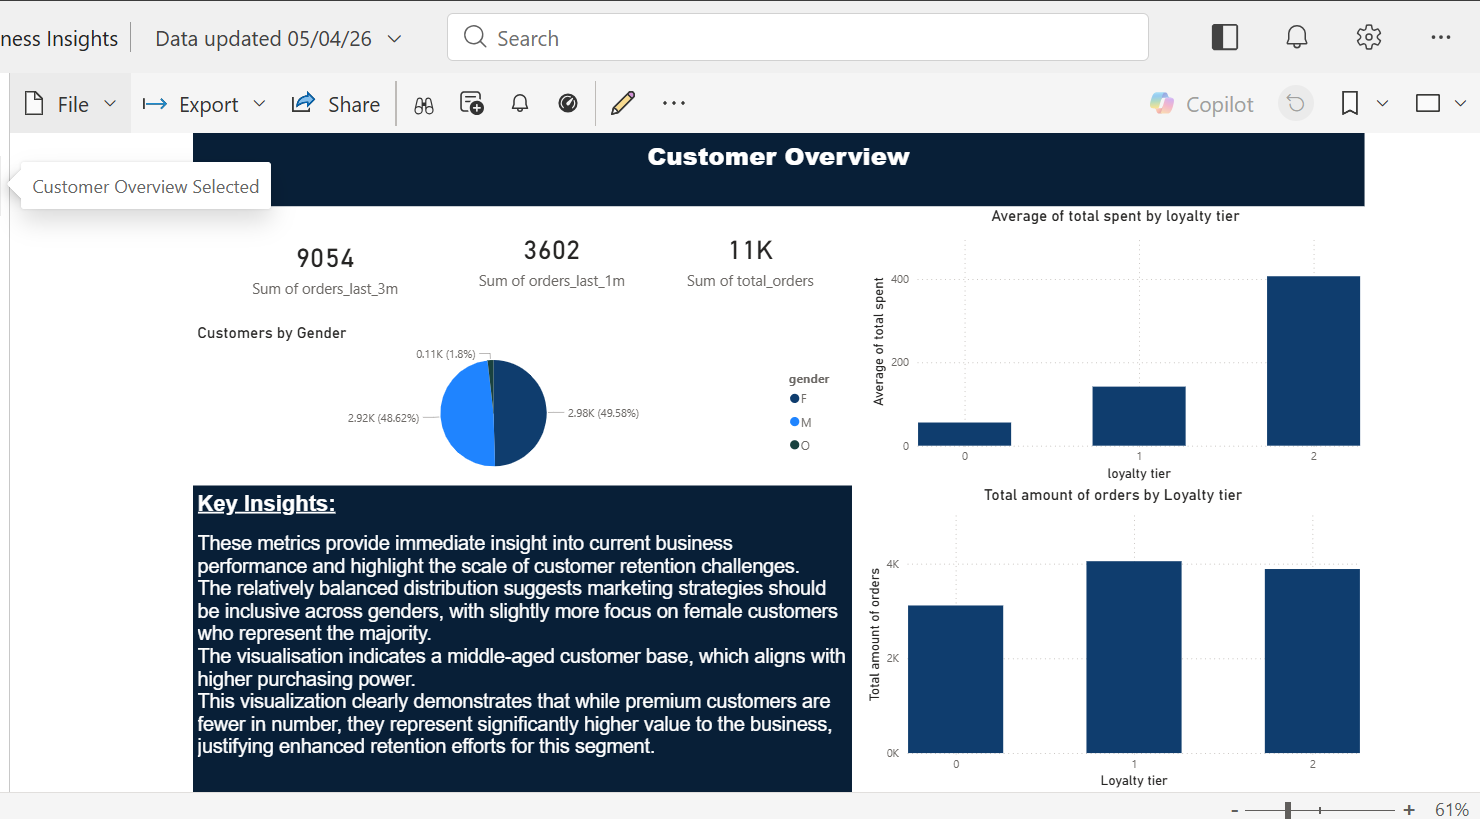

This screenshot's page, from the dashboard's own definition file:
{"tool":"powerbi","page":{"name":"Customer Overview","canvas":[1280,720],"ordinal":0},"visuals":[{"type":"columnChart","title":"Average of total spent by loyalty tier","fields":{"Category":["customer.loyalty_tier_encoded"],"Y":["Avg(orders.total_spent)"]},"box":[736,80,544,304],"z":0},{"type":"card","fields":{"Values":["Sum(orders.orders_last_3m)"]},"box":[0,96,288,96],"z":1000},{"type":"card","fields":{"Values":["Sum(orders.total_orders)"]},"box":[496,80,224,112],"z":2000},{"type":"card","fields":{"Values":["Sum(orders.orders_last_1m)"]},"box":[256,80,272,112],"z":3000},{"type":"pieChart","title":"Customers by Gender","fields":{"Category":["customer.gender"],"Y":["CountNonNull(customer.customer_id)"]},"box":[0,208,720,176],"z":4000},{"type":"clusteredColumnChart","fields":{"Y":["Sum(orders.total_orders)"],"Category":["customer.loyalty_tier_encoded"]},"box":[731.3,385.4,548.7,335],"z":5000},{"type":"textbox","box":[0,0,1280,80],"z":6000},{"type":"textbox","box":[0,385,720,335],"z":7000}]}

Visuals, with their boxes on the page's 1280x720 design canvas (x1, y1, x2, y2). These are canvas units, not pixel positions in the 1480x819 screenshot, which may show the page scaled, cropped or inside an application window:
"Average of total spent by loyalty tier" columnChart: left=736, top=80, right=1280, bottom=384
card - Sum(orders.orders_last_3m): left=0, top=96, right=288, bottom=192
card - Sum(orders.total_orders): left=496, top=80, right=720, bottom=192
card - Sum(orders.orders_last_1m): left=256, top=80, right=528, bottom=192
"Customers by Gender" pieChart: left=0, top=208, right=720, bottom=384
clusteredColumnChart - Sum(orders.total_orders) x customer.loyalty_tier_encoded: left=731, top=385, right=1280, bottom=720
textbox: left=0, top=0, right=1280, bottom=80
textbox: left=0, top=385, right=720, bottom=720
